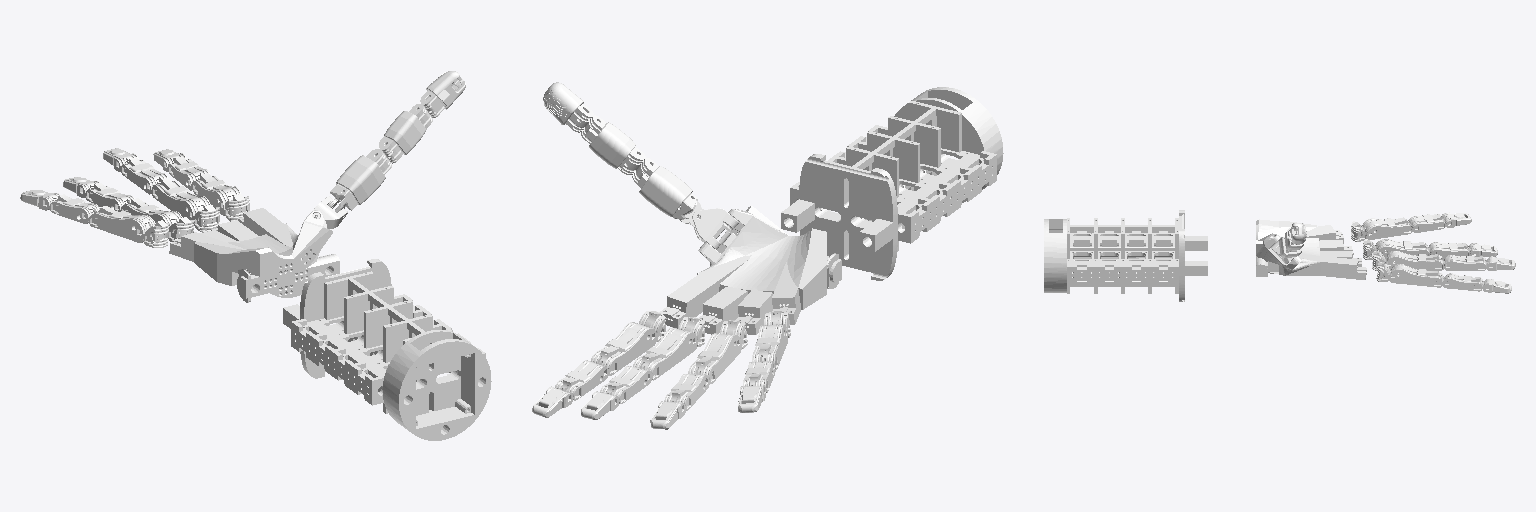
--- Facts derived from the render (not from the file) ---
The picture shows the robot from 3 angles, left to right: view 1: azimuth 30°, elevation 25°; view 2: azimuth 150°, elevation 25°; view 3: azimuth 270°, elevation 25°; orthographic projection.
Robot: converted_robot — 97 links, 96 joints (38 revolute, 58 fixed); root link hand_root; default pose: every joint at zero.
Visible links, largest first — view 1: palm, thumb_pp, thumb_mp, pinky_pp, middle_pp, thumb_dp, index_pp, middle_mp, pinky_mp, ring_mp, index_mp, ring_pp (+2 smaller); view 2: palm, thumb_pp, thumb_mp, index_pp, middle_pp, ring_pp, thumb_dp, index_mp, thumb_base, pinky_pp, middle_mp, ring_mp (+5 smaller); view 3: palm, index_pp, pinky_pp, middle_pp, ring_pp, middle_mp, index_mp, pinky_mp.
Boxes of the visible links, x1,y1,x2,y2 form: palm: [169, 208, 491, 440]; thumb_pp: [328, 149, 391, 212]; thumb_mp: [379, 104, 432, 163]; pinky_pp: [89, 206, 155, 242]; middle_pp: [151, 178, 210, 223]; thumb_dp: [420, 71, 465, 117]; index_pp: [192, 173, 240, 215]; middle_mp: [121, 157, 167, 194]; pinky_mp: [49, 194, 99, 223]; ring_mp: [85, 183, 134, 211]; index_mp: [168, 156, 209, 190]; ring_pp: [120, 198, 182, 225]; palm: [660, 87, 1003, 334]; thumb_pp: [632, 158, 703, 226]; thumb_mp: [581, 115, 645, 174]; index_pp: [591, 322, 656, 375]; middle_pp: [633, 327, 697, 380]; ring_pp: [688, 333, 741, 383]; thumb_dp: [543, 82, 593, 132]; index_mp: [555, 360, 608, 400]; thumb_base: [692, 208, 738, 249]; pinky_pp: [752, 324, 787, 369]; middle_mp: [600, 366, 651, 403]; ring_mp: [664, 374, 709, 410]; palm: [1044, 210, 1366, 301]; index_pp: [1389, 264, 1444, 287]; pinky_pp: [1362, 217, 1412, 239]; middle_pp: [1385, 251, 1444, 270]; ring_pp: [1375, 239, 1429, 257]; middle_mp: [1444, 255, 1487, 270]; index_mp: [1443, 273, 1483, 291]; pinky_mp: [1408, 214, 1445, 232].
Size in the robot's own frame: 0.2184 by 0.3995 by 0.1237 metres.
Meshes: 21 distinct files referenced, 21 mesh visuals loaded (21 binary STL).

robot.urdf — converted_robot:
<?xml version="1.0" ?>
<robot name="converted_robot">
   <link name="hand_root">
      <inertial>
         <origin xyz="0.0 0.0 0.0" rpy="1.5706999999995865 9.26535893632785e-05 3.1415926446647697"/>
         <mass value="0.0"/>
         <inertia ixx="0.0" iyy="0.0" izz="0.0" ixy="0" ixz="0" iyz="0"/>
      </inertial>
   </link>
   <link name="palm">
      <inertial>
         <origin xyz="2.5416504812887298e-05 -0.08276365349137842 0.001169448382074098" rpy="-2.0013871051005374 -1.5403497142979492 -2.710528263074548"/>
         <mass value="0.8544284533999974"/>
         <inertia ixx="0.003996687193896739" iyy="0.0038631080483888095" izz="0.0003381452076901226" ixy="0" ixz="0" iyz="0"/>
      </inertial>
      <visual name="palm_tower">
         <origin xyz="2.5416504812887298e-05 -0.08276365349137842 0.001169448382074098" rpy="-2.001387105100539 -1.5403497142979492 -2.710528263074546"/>
         <geometry>
            <mesh filename="package://viz/models/faive_hand_p4/urdf/converted_palm_tower.stl"/>
         </geometry>
         <material name="white"/>
      </visual>
   </link>
   <link name="root2palm_fixed_jointbody">
      <inertial>
         <origin xyz="0.0 0.0 0.0" rpy="0.0 0.0 0.0"/>
         <mass value="0.001"/>
         <inertia ixx="1e-09" iyy="1e-09" izz="1e-09" ixy="0" ixz="0" iyz="0"/>
      </inertial>
   </link>
   <joint type="fixed" name="root2palm_fixed">
      <parent link="hand_root"/>
      <child link="root2palm_fixed_jointbody"/>
      <origin xyz="0.0 0.0 0.0" rpy="0.0 0.0 0.0"/>
   </joint>
   <joint type="fixed" name="root2palm_fixed_offset">
      <parent link="root2palm_fixed_jointbody"/>
      <child link="palm"/>
      <origin xyz="-0.0 -0.0 -0.0" rpy="0.0 0.0 0.0"/>
   </joint>
   <link name="thumb_base">
      <inertial>
         <origin xyz="0.001970173414393421 -0.005848359469028798 -0.0036223825060920853" rpy="-0.5508534899362458 -1.2305068745270804 -1.7115532269963385"/>
         <mass value="0.004011533872474505"/>
         <inertia ixx="2.1074086505129743e-07" iyy="1.648050934848108e-07" izz="1.4801558992505004e-07" ixy="0" ixz="0" iyz="0"/>
      </inertial>
      <visual name="thumb_base">
         <origin xyz="0.001970173414393421 -0.005848359469028798 -0.0036223825060920853" rpy="-0.5508534899362456 -1.2305068745270804 -1.7115532269963383"/>
         <geometry>
            <mesh filename="package://viz/models/faive_hand_p4/urdf/converted_thumb_base.stl"/>
         </geometry>
         <material name="white"/>
      </visual>
   </link>
   <link name="root2thumb_base_jointbody">
      <inertial>
         <origin xyz="0.0 0.0 0.0" rpy="0.0 0.0 0.0"/>
         <mass value="0.001"/>
         <inertia ixx="1e-09" iyy="1e-09" izz="1e-09" ixy="0" ixz="0" iyz="0"/>
      </inertial>
   </link>
   <joint type="revolute" name="root2thumb_base">
      <parent link="palm"/>
      <child link="root2thumb_base_jointbody"/>
      <origin xyz="0.0302924 0.0270814 0.0184038" rpy="3.116968966268021 -0.7070761587517901 -1.998218924284706"/>
      <axis xyz="1.0 0.0 0.0"/>
      <limit lower="0.0" upper="2.27" effort="100" velocity="100"/>
   </joint>
   <joint type="fixed" name="root2thumb_base_offset">
      <parent link="root2thumb_base_jointbody"/>
      <child link="thumb_base"/>
      <origin xyz="-0.0 -0.0 -0.0" rpy="0.0 0.0 0.0"/>
   </joint>
   <link name="thumb_pp">
      <inertial>
         <origin xyz="0.003685797083943662 -0.009243840769062303 -0.019758529144502893" rpy="0.24159850312347242 -0.37675802997427077 -2.042850879998637"/>
         <mass value="0.013134496742520606"/>
         <inertia ixx="1.3422333588118766e-06" iyy="1.3414176561006083e-06" izz="4.220848677143001e-07" ixy="0" ixz="0" iyz="0"/>
      </inertial>
      <visual name="thumb_pp">
         <origin xyz="0.003685797083943662 -0.009243840769062303 -0.019758529144502893" rpy="0.24159850312347242 -0.376758029974271 -2.042850879998637"/>
         <geometry>
            <mesh filename="package://viz/models/faive_hand_p4/urdf/converted_thumb_pp.stl"/>
         </geometry>
         <material name="white"/>
      </visual>
   </link>
   <link name="thumb_base2pp_jointbody">
      <inertial>
         <origin xyz="0.0 0.0 0.0" rpy="0.0 0.0 0.0"/>
         <mass value="0.001"/>
         <inertia ixx="1e-09" iyy="1e-09" izz="1e-09" ixy="0" ixz="0" iyz="0"/>
      </inertial>
   </link>
   <joint type="revolute" name="thumb_base2pp">
      <parent link="thumb_base"/>
      <child link="thumb_base2pp_jointbody"/>
      <origin xyz="0.0 -0.010014 -0.011168" rpy="0.471787471114568 -0.7310080799806019 -1.5707964600490258"/>
      <axis xyz="1.0 -0.0 -0.0"/>
      <limit lower="-1.66" upper="1.05" effort="100" velocity="100"/>
   </joint>
   <joint type="fixed" name="thumb_base2pp_offset">
      <parent link="thumb_base2pp_jointbody"/>
      <child link="thumb_pp"/>
      <origin xyz="-0.0 -0.0 -0.0" rpy="0.0 0.0 0.0"/>
   </joint>
   <link name="thumb_mp_virt">
      <inertial>
         <origin xyz="0.009525 -0.041187 0.083647" rpy="-0.2229159847709277 -1.2682876286119866 0.3020329839181936"/>
         <mass value="0.001"/>
         <inertia ixx="4e-10" iyy="4e-10" izz="3e-10" ixy="0" ixz="0" iyz="0"/>
      </inertial>
   </link>
   <link name="thumb_pp2mp_virt_jointbody">
      <inertial>
         <origin xyz="0.0 0.0 0.0" rpy="0.0 0.0 0.0"/>
         <mass value="0.001"/>
         <inertia ixx="1e-09" iyy="1e-09" izz="1e-09" ixy="0" ixz="0" iyz="0"/>
      </inertial>
   </link>
   <joint type="revolute" name="thumb_pp2mp_virt">
      <parent link="thumb_pp"/>
      <child link="thumb_pp2mp_virt_jointbody"/>
      <origin xyz="0.006036 -0.014416 -0.034587" rpy="0.5386217287519482 0.3555979399949092 2.3263406330107355"/>
      <axis xyz="1.0 0.0 0.0"/>
      <limit lower="0.0" upper="0.96" effort="100" velocity="100"/>
   </joint>
   <joint type="fixed" name="thumb_pp2mp_virt_offset">
      <parent link="thumb_pp2mp_virt_jointbody"/>
      <child link="thumb_mp_virt"/>
      <origin xyz="-0.0 -0.0 -0.0" rpy="0.0 0.0 0.0"/>
   </joint>
   <link name="thumb_mp">
      <inertial>
         <origin xyz="5.4286458221817005e-05 -0.001509788527586431 -0.01238038691431663" rpy="0.0012037457432313436 0.24541958094551974 1.5927828887663114"/>
         <mass value="0.00888020173902963"/>
         <inertia ixx="6.734609177701431e-07" iyy="6.20129431691173e-07" izz="2.4105375135125176e-07" ixy="0" ixz="0" iyz="0"/>
      </inertial>
      <visual name="thumb_mp">
         <origin xyz="5.4286458221817005e-05 -0.001509788527586431 -0.01238038691431663" rpy="0.0012037457432314547 0.24541958094551974 1.5927828887663118"/>
         <geometry>
            <mesh filename="package://viz/models/faive_hand_p4/urdf/converted_thumb_mp.stl"/>
         </geometry>
         <material name="white"/>
      </visual>
   </link>
   <link name="thumb_pp2mp_jointbody">
      <inertial>
         <origin xyz="0.0 0.0 0.0" rpy="0.0 0.0 0.0"/>
         <mass value="0.001"/>
         <inertia ixx="1e-09" iyy="1e-09" izz="1e-09" ixy="0" ixz="0" iyz="0"/>
      </inertial>
   </link>
   <joint type="revolute" name="thumb_pp2mp">
      <parent link="thumb_mp_virt"/>
      <child link="thumb_pp2mp_jointbody"/>
      <origin xyz="3.8e-05 -0.002927 -0.011638" rpy="0.0 0.0 0.0"/>
      <axis xyz="1.0 0.0 0.0"/>
      <limit lower="0.0" upper="0.96" effort="100" velocity="100"/>
   </joint>
   <joint type="fixed" name="thumb_pp2mp_offset">
      <parent link="thumb_pp2mp_jointbody"/>
      <child link="thumb_mp"/>
      <origin xyz="-0.0 -0.0 -0.0" rpy="0.0 0.0 0.0"/>
   </joint>
   <link name="thumb_dp_virt">
      <inertial>
         <origin xyz="0.009403 -0.031797 0.120984" rpy="-0.2229159847709277 -1.2682876286119866 0.3020329839181936"/>
         <mass value="0.001"/>
         <inertia ixx="4e-10" iyy="4e-10" izz="3e-10" ixy="0" ixz="0" iyz="0"/>
      </inertial>
   </link>
   <link name="thumb_mp2dp_virt_jointbody">
      <inertial>
         <origin xyz="0.0 0.0 0.0" rpy="0.0 0.0 0.0"/>
         <mass value="0.001"/>
         <inertia ixx="1e-09" iyy="1e-09" izz="1e-09" ixy="0" ixz="0" iyz="0"/>
      </inertial>
   </link>
   <joint type="revolute" name="thumb_mp2dp_virt">
      <parent link="thumb_mp"/>
      <child link="thumb_mp2dp_virt_jointbody"/>
      <origin xyz="8.4e-05 -0.006463 -0.025699" rpy="0.0 0.0 0.0"/>
      <axis xyz="1.0 0.0 0.0"/>
      <limit lower="0.0" upper="0.68" effort="100" velocity="100"/>
   </joint>
   <joint type="fixed" name="thumb_mp2dp_virt_offset">
      <parent link="thumb_mp2dp_virt_jointbody"/>
      <child link="thumb_dp_virt"/>
      <origin xyz="-0.0 -0.0 -0.0" rpy="0.0 0.0 0.0"/>
   </joint>
   <link name="thumb_dp">
      <inertial>
         <origin xyz="5.3696526934673625e-05 -0.002439206018631304 -0.011120898732089823" rpy="0.0031587549087034317 0.21291132811997304 1.604797502184634"/>
         <mass value="0.006650607092807898"/>
         <inertia ixx="3.45280430015512e-07" iyy="3.083919799294367e-07" izz="1.5906696275514546e-07" ixy="0" ixz="0" iyz="0"/>
      </inertial>
      <visual name="thumb_dp">
         <origin xyz="5.3696526934673625e-05 -0.002439206018631304 -0.011120898732089823" rpy="0.0031587549087035427 0.21291132811997304 1.604797502184634"/>
         <geometry>
            <mesh filename="package://viz/models/faive_hand_p4/urdf/converted_thumb_dp.stl"/>
         </geometry>
         <material name="white"/>
      </visual>
   </link>
   <link name="thumb_mp2dp_jointbody">
      <inertial>
         <origin xyz="0.0 0.0 0.0" rpy="0.0 0.0 0.0"/>
         <mass value="0.001"/>
         <inertia ixx="1e-09" iyy="1e-09" izz="1e-09" ixy="0" ixz="0" iyz="0"/>
      </inertial>
   </link>
   <joint type="revolute" name="thumb_mp2dp">
      <parent link="thumb_dp_virt"/>
      <child link="thumb_mp2dp_jointbody"/>
      <origin xyz="2.7e-05 -0.002196 -0.008728" rpy="0.0 0.0 0.0"/>
      <axis xyz="1.0 0.0 0.0"/>
      <limit lower="0.0" upper="0.68" effort="100" velocity="100"/>
   </joint>
   <joint type="fixed" name="thumb_mp2dp_offset">
      <parent link="thumb_mp2dp_jointbody"/>
      <child link="thumb_dp"/>
      <origin xyz="-0.0 -0.0 -0.0" rpy="0.0 0.0 0.0"/>
   </joint>
   <link name="thumb_fingertip">
      <inertial>
         <origin xyz="0.000386 -0.000394 -0.012633" rpy="1.583092548356868 0.21851142430155246 -2.8889085939445414"/>
         <mass value="0.0"/>
         <inertia ixx="0.0" iyy="0.0" izz="0.0" ixy="0" ixz="0" iyz="0"/>
      </inertial>
   </link>
   <link name="thumb_dp2thumb_fingertip_fixed_jointbody">
      <inertial>
         <origin xyz="0.0 0.0 0.0" rpy="0.0 0.0 0.0"/>
         <mass value="0.001"/>
         <inertia ixx="1e-09" iyy="1e-09" izz="1e-09" ixy="0" ixz="0" iyz="0"/>
      </inertial>
   </link>
   <joint type="fixed" name="thumb_dp2thumb_fingertip_fixed">
      <parent link="thumb_dp"/>
      <child link="thumb_dp2thumb_fingertip_fixed_jointbody"/>
      <origin xyz="0.000386 -0.000394 -0.012633" rpy="1.583092548356868 0.21851142430155246 -2.8889085939445414"/>
   </joint>
   <joint type="fixed" name="thumb_dp2thumb_fingertip_fixed_offset">
      <parent link="thumb_dp2thumb_fingertip_fixed_jointbody"/>
      <child link="thumb_fingertip"/>
      <origin xyz="-0.0 -0.0 -0.0" rpy="0.0 0.0 0.0"/>
   </joint>
   <link name="index_um_virt">
      <inertial>
         <origin xyz="0.0 0.0 0.0" rpy="0.0 0.0 0.0"/>
         <mass value="0.001"/>
         <inertia ixx="4e-10" iyy="4e-10" izz="3e-10" ixy="0" ixz="0" iyz="0"/>
      </inertial>
   </link>
   <link name="index_abd_virt_jointbody">
      <inertial>
         <origin xyz="0.0 0.0 0.0" rpy="0.0 0.0 0.0"/>
         <mass value="0.001"/>
         <inertia ixx="1e-09" iyy="1e-09" izz="1e-09" ixy="0" ixz="0" iyz="0"/>
      </inertial>
   </link>
   <joint type="revolute" name="index_abd_virt">
      <parent link="palm"/>
      <child link="index_abd_virt_jointbody"/>
      <origin xyz="0.0241405 0.0941245 -0.002264" rpy="-2.4660871361653434 1.4872443604478853 -0.9843704687461553"/>
      <axis xyz="1.0 0.0 0.0"/>
      <limit lower="-0.264" upper="0.264" effort="100" velocity="100"/>
   </joint>
   <joint type="fixed" name="index_abd_virt_offset">
      <parent link="index_abd_virt_jointbody"/>
      <child link="index_um_virt"/>
      <origin xyz="-0.0 -0.0 -0.0" rpy="0.0 0.0 0.0"/>
   </joint>
   <link name="index_um">
      <inertial>
         <origin xyz="0.00031580983659068584 -0.0002288251367361105 -0.0036213650800712184" rpy="3.11344184080733 -1.2906456283037744 -3.1026201209529307"/>
         <mass value="0.0017045161564725117"/>
         <inertia ixx="4.089294685057779e-08" iyy="3.323975063683227e-08" izz="2.9482536155708794e-08" ixy="0" ixz="0" iyz="0"/>
      </inertial>
      <visual name="index_um">
         <origin xyz="0.00031580983659068584 -0.0002288251367361105 -0.0036213650800712184" rpy="3.1134418408073303 -1.2906456283037744 -3.1026201209529303"/>
         <geometry>
            <mesh filename="package://viz/models/faive_hand_p4/urdf/converted_index_um.stl"/>
         </geometry>
         <material name="white"/>
      </visual>
   </link>
   <link name="index_abd_jointbody">
      <inertial>
         <origin xyz="0.0 0.0 0.0" rpy="0.0 0.0 0.0"/>
         <mass value="0.001"/>
         <inertia ixx="1e-09" iyy="1e-09" izz="1e-09" ixy="0" ixz="0" iyz="0"/>
      </inertial>
   </link>
   <joint type="revolute" name="index_abd">
      <parent link="index_um_virt"/>
      <child link="index_abd_jointbody"/>
      <origin xyz="0.0 0.0 0.018" rpy="0.0 0.0 0.0"/>
      <axis xyz="1.0 0.0 0.0"/>
      <limit lower="-0.264" upper="0.264" effort="100" velocity="100"/>
   </joint>
   <joint type="fixed" name="index_abd_offset">
      <parent link="index_abd_jointbody"/>
      <child link="index_um"/>
      <origin xyz="-0.0 -0.0 -0.0" rpy="0.0 0.0 0.0"/>
   </joint>
   <link name="index_pp_virt">
      <inertial>
         <origin xyz="0.0 0.0 0.0" rpy="0.0 0.0 0.0"/>
         <mass value="0.001"/>
         <inertia ixx="4e-10" iyy="4e-10" izz="3e-10" ixy="0" ixz="0" iyz="0"/>
      </inertial>
   </link>
   <link name="root2index_pp_virt_jointbody">
      <inertial>
         <origin xyz="0.0 0.0 0.0" rpy="0.0 0.0 0.0"/>
         <mass value="0.001"/>
         <inertia ixx="1e-09" iyy="1e-09" izz="1e-09" ixy="0" ixz="0" iyz="0"/>
      </inertial>
   </link>
   <joint type="revolute" name="root2index_pp_virt">
      <parent link="index_um"/>
      <child link="root2index_pp_virt_jointbody"/>
      <origin xyz="0.00270000102 5.9952065978308155e-19 -0.00743303472" rpy="0.0 0.0 -1.5707963267948963"/>
      <axis xyz="1.0 0.0 0.0"/>
      <limit lower="-0.157" upper="0.829" effort="100" velocity="100"/>
   </joint>
   <joint type="fixed" name="root2index_pp_virt_offset">
      <parent link="root2index_pp_virt_jointbody"/>
      <child link="index_pp_virt"/>
      <origin xyz="-0.0 -0.00270000102 -0.0" rpy="0.0 0.0 0.0"/>
   </joint>
   <link name="index_pp">
      <inertial>
         <origin xyz="0.0001596722768568877 0.0010995555377848287 0.012881699665408173" rpy="-0.0005635952845526315 0.04346039496131349 1.5731856337079444"/>
         <mass value="0.006934011983539235"/>
         <inertia ixx="1.1618492936895645e-06" iyy="1.1338221765707372e-06" izz="1.5329642774536852e-07" ixy="0" ixz="0" iyz="0"/>
      </inertial>
      <visual name="index_pp">
         <origin xyz="0.0001596722768568877 0.0010995555377848287 0.012881699665408173" rpy="-0.0005635952845526315 0.04346039496131349 1.5731856337079444"/>
         <geometry>
            <mesh filename="package://viz/models/faive_hand_p4/urdf/converted_index_pp.stl"/>
         </geometry>
         <material name="white"/>
      </visual>
   </link>
   <link name="root2index_pp_jointbody">
      <inertial>
         <origin xyz="0.0 0.0 0.0" rpy="0.0 0.0 0.0"/>
         <mass value="0.001"/>
         <inertia ixx="1e-09" iyy="1e-09" izz="1e-09" ixy="0" ixz="0" iyz="0"/>
      </inertial>
   </link>
   <joint type="revolute" name="root2index_pp">
      <parent link="index_pp_virt"/>
      <child link="root2index_pp_jointbody"/>
      <origin xyz="0.0 0.00250000102 0.018" rpy="0.0 0.0 0.0"/>
      <axis xyz="1.0 0.0 0.0"/>
      <limit lower="-0.157" upper="0.829" effort="100" velocity="100"/>
   </joint>
   <joint type="fixed" name="root2index_pp_offset">
      <parent link="root2index_pp_jointbody"/>
      <child link="index_pp"/>
      <origin xyz="-0.0 -0.00250000102 -0.0" rpy="0.0 0.0 0.0"/>
   </joint>
   <link name="index_pp_sens">
      <inertial>
         <origin xyz="0.0 -0.004 0.018" rpy="0.0 0.0 0.0"/>
         <mass value="0.0"/>
         <inertia ixx="0.0" iyy="0.0" izz="0.0" ixy="0" ixz="0" iyz="0"/>
      </inertial>
   </link>
   <link name="index_pp2index_pp_sens_fixed_jointbody">
      <inertial>
         <origin xyz="0.0 0.0 0.0" rpy="0.0 0.0 0.0"/>
         <mass value="0.001"/>
         <inertia ixx="1e-09" iyy="1e-09" izz="1e-09" ixy="0" ixz="0" iyz="0"/>
      </inertial>
   </link>
   <joint type="fixed" name="index_pp2index_pp_sens_fixed">
      <parent link="index_pp"/>
      <child link="index_pp2index_pp_sens_fixed_jointbody"/>
      <origin xyz="0.0 -0.004 0.018" rpy="0.0 0.0 0.0"/>
   </joint>
   <joint type="fixed" name="index_pp2index_pp_sens_fixed_offset">
      <parent link="index_pp2index_pp_sens_fixed_jointbody"/>
      <child link="index_pp_sens"/>
      <origin xyz="-0.0 -0.0 -0.0" rpy="0.0 0.0 0.0"/>
   </joint>
   <link name="index_mp_virt">
      <inertial>
         <origin xyz="0.0 0.0 0.0" rpy="0.0 0.0 0.0"/>
         <mass value="0.001"/>
         <inertia ixx="4e-10" iyy="4e-10" izz="3e-10" ixy="0" ixz="0" iyz="0"/>
      </inertial>
   </link>
   <link name="index_pp2mp_virt_jointbody">
      <inertial>
         <origin xyz="0.0 0.0 0.0" rpy="0.0 0.0 0.0"/>
         <mass value="0.001"/>
         <inertia ixx="1e-09" iyy="1e-09" izz="1e-09" ixy="0" ixz="0" iyz="0"/>
      </inertial>
   </link>
   <joint type="revolute" name="index_pp2mp_virt">
      <parent link="index_pp"/>
      <child link="index_pp2mp_virt_jointbody"/>
      <origin xyz="0.0 0.00370000102 0.03101612481" rpy="0.0 0.0 0.0"/>
      <axis xyz="1.0 0.0 0.0"/>
      <limit lower="-0.131" upper="0.96" effort="100" velocity="100"/>
   </joint>
   <joint type="fixed" name="index_pp2mp_virt_offset">
      <parent link="index_pp2mp_virt_jointbody"/>
      <child link="index_mp_virt"/>
      <origin xyz="-0.0 -0.00370000102 -0.0" rpy="0.0 0.0 0.0"/>
   </joint>
   <link name="index_mp">
      <inertial>
         <origin xyz="0.00011615953600364534 0.002416765310794026 0.011095355077765302" rpy="0.005169069300036244 0.005498568931487036 1.5689027225439034"/>
         <mass value="0.003917438749524729"/>
         <inertia ixx="3.7106864302587183e-07" iyy="3.4007196897290696e-07" izz="7.116706670265419e-08" ixy="0" ixz="0" iyz="0"/>
      </inertial>
      <visual name="index_mp">
         <origin xyz="0.00011615953600364534 0.002416765310794026 0.011095355077765302" rpy="0.005169069300036355 0.005498568931486814 1.5689027225439032"/>
         <geometry>
            <mesh filename="package://viz/models/faive_hand_p4/urdf/converted_index_mp.stl"/>
         </geometry>
         <material name="white"/>
      </visual>
   </link>
   <link name="index_pp2mp_jointbody">
      <inertial>
         <origin xyz="0.0 0.0 0.0" rpy="0.0 0.0 0.0"/>
         <mass value="0.001"/>
         <inertia ixx="1e-09" iyy="1e-09" izz="1e-09" ixy="0" ixz="0" iyz="0"/>
      </inertial>
   </link>
   <joint type="revolute" name="index_pp2mp">
      <parent link="index_mp_virt"/>
      <child link="index_pp2mp_jointbody"/>
      <origin xyz="0.0 0.00350000102 0.012" rpy="0.0 0.0 0.0"/>
      <axis xyz="1.0 0.0 0.0"/>
      <limit lower="-0.131" upper="0.96" effort="100" velocity="100"/>
   </joint>
   <joint type="fixed" name="index_pp2mp_offset">
      <parent link="index_pp2mp_jointbody"/>
      <child link="index_mp"/>
      <origin xyz="-0.0 -0.00350000102 -0.0" rpy="0.0 0.0 0.0"/>
   </joint>
   <link name="index_dp_virt">
      <inertial>
         <origin xyz="0.0 0.0 0.0" rpy="0.0 0.0 0.0"/>
         <mass value="0.001"/>
         <inertia ixx="4e-10" iyy="4e-10" izz="3e-10" ixy="0" ixz="0" iyz="0"/>
      </inertial>
   </link>
   <link name="index_mp2dp_virt_jointbody">
      <inertial>
         <origin xyz="0.0 0.0 0.0" rpy="0.0 0.0 0.0"/>
         <mass value="0.001"/>
         <inertia ixx="1e-09" iyy="1e-09" izz="1e-09" ixy="0" ixz="0" iyz="0"/>
      </inertial>
   </link>
   <joint type="revolute" name="index_mp2dp_virt">
      <parent link="index_mp"/>
      <child link="index_mp2dp_virt_jointbody"/>
      <origin xyz="0.0 0.00370000102 0.0235" rpy="0.0 0.0 0.0"/>
      <axis xyz="1.0 0.0 0.0"/>
      <limit lower="-0.093" upper="0.682" effort="100" velocity="100"/>
   </joint>
   <joint type="fixed" name="index_mp2dp_virt_offset">
      <parent link="index_mp2dp_virt_jointbody"/>
      <child link="index_dp_virt"/>
      <origin xyz="-0.0 -0.00370000102 -0.0" rpy="0.0 0.0 0.0"/>
   </joint>
   <link name="index_dp">
      <inertial>
         <origin xyz="0.00011951811090690767 0.0031206785576221962 0.00757311622812222" rpy="-0.0018937803814825793 0.05085216186052621 1.5852087154460959"/>
         <mass value="0.002163927397260579"/>
         <inertia ixx="1.074593159658436e-07" iyy="9.2226972746983e-08" izz="2.9490220632316423e-08" ixy="0" ixz="0" iyz="0"/>
      </inertial>
      <visual name="index_dp">
         <origin xyz="0.00011951811090690767 0.0031206785576221962 0.00757311622812222" rpy="-0.0018937803814825793 0.05085216186052599 1.5852087154460959"/>
         <geometry>
            <mesh filename="package://viz/models/faive_hand_p4/urdf/converted_index_dp.stl"/>
         </geometry>
         <material name="white"/>
      </visual>
   </link>
   <link name="index_mp2dp_jointbody">
      <inertial>
         <origin xyz="0.0 0.0 0.0" rpy="0.0 0.0 0.0"/>
         <mass value="0.001"/>
         <inertia ixx="1e-09" iyy="1e-09" izz="1e-09" ixy="0" ixz="0" iyz="0"/>
      </inertial>
   </link>
   <joint type="revolute" name="index_mp2dp">
      <parent link="index_dp_virt"/>
      <child link="index_mp2dp_jointbody"/>
      <origin xyz="0.0 0.00350000102 0.009" rpy="0.0 0.0 0.0"/>
      <axis xyz="1.0 0.0 0.0"/>
      <limit lower="-0.093" upper="0.682" effort="100" velocity="100"/>
   </joint>
   <joint type="fixed" name="index_mp2dp_offset">
      <parent link="index_mp2dp_jointbody"/>
      <child link="index_dp"/>
      <origin xyz="-0.0 -0.00350000102 -0.0" rpy="0.0 0.0 0.0"/>
   </joint>
   <link name="index_fingertip">
      <inertial>
         <origin xyz="0.0 0.0 0.01" rpy="0.0 0.0 0.0"/>
         <mass value="0.0"/>
         <inertia ixx="0.0" iyy="0.0" izz="0.0" ixy="0" ixz="0" iyz="0"/>
      </inertial>
   </link>
   <link name="index_dp2index_fingertip_fixed_jointbody">
      <inertial>
         <origin xyz="0.0 0.0 0.0" rpy="0.0 0.0 0.0"/>
         <mass value="0.001"/>
         <inertia ixx="1e-09" iyy="1e-09" izz="1e-09" ixy="0" ixz="0" iyz="0"/>
      </inertial>
   </link>
   <joint type="fixed" name="index_dp2index_fingertip_fixed">
      <parent link="index_dp"/>
      <child link="index_dp2index_fingertip_fixed_jointbody"/>
      <origin xyz="0.0 0.0 0.01" rpy="0.0 0.0 0.0"/>
   </joint>
   <joint type="fixed" name="index_dp2index_fingertip_fixed_offset">
      <parent link="index_dp2index_fingertip_fixed_jointbody"/>
      <child link="index_fingertip"/>
      <origin xyz="-0.0 -0.0 -0.0" rpy="0.0 0.0 0.0"/>
   </joint>
   <link name="middle_um_virt">
      <inertial>
         <origin xyz="0.0 0.0 0.0" rpy="0.0 0.0 0.0"/>
         <mass value="0.001"/>
         <inertia ixx="4e-10" iyy="4e-10" izz="3e-10" ixy="0" ixz="0" iyz="0"/>
      </inertial>
   </link>
   <link name="middle_abd_virt_jointbody">
      <inertial>
         <origin xyz="0.0 0.0 0.0" rpy="0.0 0.0 0.0"/>
         <mass value="0.001"/>
         <inertia ixx="1e-09" iyy="1e-09" izz="1e-09" ixy="0" ixz="0" iyz="0"/>
      </inertial>
   </link>
   <joint type="revolute" name="middle_abd_virt">
      <parent link="palm"/>
      <child link="middle_abd_virt_jointbody"/>
      <origin xyz="0.00295 0.09 -0.003066" rpy="-1.5707963267948966 1.5707963267948966 0.0"/>
      <axis xyz="1.0 0.0 0.0"/>
      <limit lower="-0.264" upper="0.264" effort="100" velocity="100"/>
   </joint>
   <joint type="fixed" name="middle_abd_virt_offset">
      <parent link="middle_abd_virt_jointbody"/>
      <child link="middle_um_virt"/>
      <origin xyz="-0.0 -0.0 -0.0" rpy="0.0 0.0 0.0"/>
   </joint>
   <link name="middle_um">
      <inertial>
         <origin xyz="0.0003169177085226181 -4.3580464142454044e-05 -0.00358903262860973" rpy="3.1142767312188235 -1.290606635557864 -3.1011515813433226"/>
         <mass value="0.0017047365062490875"/>
         <inertia ixx="4.0897642285508256e-08" iyy="3.324524834153317e-08" izz="2.949862077721965e-08" ixy="0" ixz="0" iyz="0"/>
      </inertial>
      <visual name="middle_um">
         <origin xyz="0.0003169177085226181 -4.3580464142454044e-05 -0.00358903262860973" rpy="3.1142767312188235 -1.290606635557864 -3.1011515813433226"/>
         <geometry>
            <mesh filename="package://viz/models/faive_hand_p4/urdf/converted_middle_um.stl"/>
         </geometry>
         <material name="white"/>
      </visual>
   </link>
   <link name="middle_abd_jointbody">
      <inertial>
         <origin xyz="0.0 0.0 0.0" rpy="0.0 0.0 0.0"/>
         <mass value="0.001"/>
         <inertia ixx="1e-09" iyy="1e-09" izz="1e-09" ixy="0" ixz="0" iyz="0"/>
      </inertial>
   </link>
   <joint type="revolute" name="middle_abd">
      <parent link="middle_um_virt"/>
      <child link="middle_abd_jointbody"/>
      <origin xyz="0.0 0.0 0.018" rpy="0.0 0.0 0.0"/>
      <axis xyz="1.0 0.0 0.0"/>
      <limit lower="-0.264" upper="0.264" effort="100" velocity="100"/>
   </joint>
   <joint type="fixed" name="middle_abd_offset">
      <parent link="middle_abd_jointbody"/>
      <child link="middle_um"/>
      <origin xyz="-0.0 -0.0 -0.0" rpy="0.0 0.0 0.0"/>
   </joint>
   <link name="middle_pp_virt">
      <inertial>
         <origin xyz="0.0 0.0 0.0" rpy="0.0 0.0 0.0"/>
         <mass value="0.001"/>
         <inertia ixx="4e-10" iyy="4e-10" izz="3e-10" ixy="0" ixz="0" iyz="0"/>
      </inertial>
   </link>
   <link name="root2middle_pp_virt_jointbody">
      <inertial>
         <origin xyz="0.0 0.0 0.0" rpy="0.0 0.0 0.0"/>
         <mass value="0.001"/>
         <inertia ixx="1e-09" iyy="1e-09" izz="1e-09" ixy="0" ixz="0" iyz="0"/>
      </inertial>
   </link>
   <joint type="revolute" name="root2middle_pp_virt">
      <parent link="middle_um"/>
      <child link="root2middle_pp_virt_jointbody"/>
      <origin xyz="0.002700001023199999 5.99520660493624e-19 -0.00743303472" rpy="0.0 0.0 -1.5707963267948963"/>
      <axis xyz="1.0 0.0 0.0"/>
      <limit lower="-0.157" upper="0.829" effort="100" velocity="100"/>
   </joint>
   <joint type="fixed" name="root2middle_pp_virt_offset">
      <parent link="root2middle_pp_virt_jointbody"/>
      <child link="middle_pp_virt"/>
      <origin xyz="-0.0 -0.002700001023199999 -0.0" rpy="0.0 0.0 0.0"/>
   </joint>
   <link name="middle_pp">
      <inertial>
         <origin xyz="-2.677702921494878e-05 0.0012083795875931697 0.014736324701324955" rpy="-0.0005735044307867421 0.04126377529945047 1.5748585531708672"/>
         <mass value="0.007431440532107334"/>
         <inertia ixx="1.4952082058349715e-06" iyy="1.4626277184822152e-06" izz="1.611455658132459e-07" ixy="0" ixz="0" iyz="0"/>
      </inertial>
      <visual name="middle_pp">
         <origin xyz="-2.677702921494878e-05 0.0012083795875931697 0.014736324701324955" rpy="-0.0005735044307867421 0.041263775299450245 1.5748585531708672"/>
         <geometry>
            <mesh filename="package://viz/models/faive_hand_p4/urdf/converted_middle_pp.stl"/>
         </geometry>
         <material name="white"/>
      </visual>
   </link>
   <link name="root2middle_pp_jointbody">
      <inertial>
         <origin xyz="0.0 0.0 0.0" rpy="0.0 0.0 0.0"/>
         <mass value="0.001"/>
         <inertia ixx="1e-09" iyy="1e-09" izz="1e-09" ixy="0" ixz="0" iyz="0"/>
      </inertial>
   </link>
   <joint type="revolute" name="root2middle_pp">
      <parent link="middle_pp_virt"/>
      <child link="root2middle_pp_jointbody"/>
      <origin xyz="0.0 0.002500001023199999 0.018" rpy="0.0 0.0 0.0"/>
      <axis xyz="1.0 0.0 0.0"/>
      <limit lower="-0.157" upper="0.829" effort="100" velocity="100"/>
   </joint>
   <joint type="fixed" name="root2middle_pp_offset">
      <parent link="root2middle_pp_jointbody"/>
      <child link="middle_pp"/>
      <origin xyz="-0.0 -0.002500001023199999 -0.0" rpy="0.0 0.0 0.0"/>
   </joint>
   <link name="middle_pp_sens">
      <inertial>
         <origin xyz="0.0 -0.004 0.022" rpy="0.0 0.0 0.0"/>
         <mass value="0.0"/>
         <inertia ixx="0.0" iyy="0.0" izz="0.0" ixy="0" ixz="0" iyz="0"/>
      </inertial>
   </link>
   <link name="middle_pp2middle_pp_sens_fixed_jointbody">
      <inertial>
         <origin xyz="0.0 0.0 0.0" rpy="0.0 0.0 0.0"/>
         <mass value="0.001"/>
         <inertia ixx="1e-09" iyy="1e-09" izz="1e-09" ixy="0" ixz="0" iyz="0"/>
      </inertial>
   </link>
   <joint type="fixed" name="middle_pp2middle_pp_sens_fixed">
      <parent link="middle_pp"/>
      <child link="middle_pp2middle_pp_sens_fixed_jointbody"/>
      <origin xyz="0.0 -0.004 0.022" rpy="0.0 0.0 0.0"/>
   </joint>
   <joint type="fixed" name="middle_pp2middle_pp_sens_fixed_offset">
      <parent link="middle_pp2middle_pp_sens_fixed_jointbody"/>
      <child link="middle_pp_sens"/>
      <origin xyz="-0.0 -0.0 -0.0" rpy="0.0 0.0 0.0"/>
   </joint>
   <link name="middle_mp_virt">
      <inertial>
         <origin xyz="0.0 0.0 0.0" rpy="0.0 0.0 0.0"/>
         <mass value="0.001"/>
         <inertia ixx="4e-10" iyy="4e-10" izz="3e-10" ixy="0" ixz="0" iyz="0"/>
      </inertial>
   </link>
   <link name="middle_pp2mp_virt_jointbody">
      <inertial>
         <origin xyz="0.0 0.0 0.0" rpy="0.0 0.0 0.0"/>
         <mass value="0.001"/>
         <inertia ixx="1e-09" iyy="1e-09" izz="1e-09" ixy="0" ixz="0" iyz="0"/>
      </inertial>
   </link>
   <joint type="revolute" name="middle_pp2mp_virt">
      <parent link="middle_pp"/>
      <child link="middle_pp2mp_virt_jointbody"/>
      <origin xyz="0.0 0.0037000000000999996 0.03501428277" rpy="0.0 0.0 0.0"/>
      <axis xyz="1.0 0.0 0.0"/>
      <limit lower="-0.131" upper="0.96" effort="100" velocity="100"/>
   </joint>
   <joint type="fixed" name="middle_pp2mp_virt_offset">
      <parent link="middle_pp2mp_virt_jointbody"/>
      <child link="middle_mp_virt"/>
      <origin xyz="-0.0 -0.0037000000000999996 -0.0" rpy="0.0 0.0 0.0"/>
   </joint>
   <link name="middle_mp">
      <inertial>
         <origin xyz="-7.289560681130453e-05 0.002462634567765748 0.012171393620294756" rpy="0.004902959245888794 0.004923370581294995 1.5694778048729559"/>
         <mass value="0.004122015435614137"/>
         <inertia ixx="4.381415087418521e-07" iyy="4.0505258266556385e-07" izz="7.452990009535827e-08" ixy="0" ixz="0" iyz="0"/>
      </inertial>
      <visual name="middle_mp">
         <origin xyz="-7.289560681130453e-05 0.002462634567765748 0.012171393620294756" rpy="0.004902959245888794 0.004923370581294995 1.5694778048729559"/>
         <geometry>
            <mesh filename="package://viz/models/faive_hand_p4/urdf/converted_middle_mp.stl"/>
         </geometry>
         <material name="white"/>
      </visual>
   </link>
   <link name="middle_pp2mp_jointbody">
      <inertial>
         <origin xyz="0.0 0.0 0.0" rpy="0.0 0.0 0.0"/>
         <mass value="0.001"/>
         <inertia ixx="1e-09" iyy="1e-09" izz="1e-09" ixy="0" ixz="0" iyz="0"/>
      </inertial>
   </link>
   <joint type="revolute" name="middle_pp2mp">
      <parent link="middle_mp_virt"/>
      <child link="middle_pp2mp_jointbody"/>
      <origin xyz="0.0 0.0035000000000999995 0.012" rpy="0.0 0.0 0.0"/>
      <axis xyz="1.0 0.0 0.0"/>
      <limit lower="-0.131" upper="0.96" effort="100" velocity="100"/>
   </joint>
   <joint type="fixed" name="middle_pp2mp_offset">
      <parent link="middle_pp2mp_jointbody"/>
      <child link="middle_mp"/>
      <origin xyz="-0.0 -0.0035000000000999995 -0.0" rpy="0.0 0.0 0.0"/>
   </joint>
   <link name="middle_dp_virt">
      <inertial>
         <origin xyz="0.0 0.0 0.0" rpy="0.0 0.0 0.0"/>
         <mass value="0.001"/>
         <inertia ixx="4e-10" iyy="4e-10" izz="3e-10" ixy="0" ixz="0" iyz="0"/>
      </inertial>
   </link>
   <link name="middle_mp2dp_virt_jointbody">
      <inertial>
         <origin xyz="0.0 0.0 0.0" rpy="0.0 0.0 0.0"/>
         <mass value="0.001"/>
         <inertia ixx="1e-09" iyy="1e-09" izz="1e-09" ixy="0" ixz="0" iyz="0"/>
      </inertial>
   </link>
   <joint type="revolute" name="middle_mp2dp_virt">
      <parent link="middle_mp"/>
      <child link="middle_mp2dp_virt_jointbody"/>
      <origin xyz="0.0 0.0037000000000999996 0.0255" rpy="0.0 0.0 0.0"/>
      <axis xyz="1.0 0.0 0.0"/>
      <limit lower="-0.093" upper="0.682" effort="100" velocity="100"/>
   </joint>
   <joint type="fixed" name="middle_mp2dp_virt_offset">
      <parent link="middle_mp2dp_virt_jointbody"/>
      <child link="middle_dp_virt"/>
      <origin xyz="-0.0 -0.0037000000000999996 -0.0" rpy="0.0 0.0 0.0"/>
   </joint>
   <link name="middle_dp">
      <inertial>
         <origin xyz="3.0280177180663714e-05 0.0031179204392796553 0.007681426284508561" rpy="0.008237866654386639 0.05067331063161795 1.5580538166000264"/>
         <mass value="0.002165187096269976"/>
         <inertia ixx="1.0756444686707563e-07" iyy="9.227105694252845e-08" izz="2.9564221198616795e-08" ixy="0" ixz="0" iyz="0"/>
      </inertial>
      <visual name="middle_dp">
         <origin xyz="3.0280177180663714e-05 0.0031179204392796553 0.007681426284508561" rpy="0.008237866654386639 0.05067331063161795 1.5580538166000264"/>
         <geometry>
            <mesh filename="package://viz/models/faive_hand_p4/urdf/converted_middle_dp.stl"/>
         </geometry>
         <material name="white"/>
      </visual>
   </link>
   <link name="middle_mp2dp_jointbody">
      <inertial>
         <origin xyz="0.0 0.0 0.0" rpy="0.0 0.0 0.0"/>
         <mass value="0.001"/>
         <inertia ixx="1e-09" iyy="1e-09" izz="1e-09" ixy="0" ixz="0" iyz="0"/>
      </inertial>
   </link>
   <joint type="revolute" name="middle_mp2dp">
      <parent link="middle_dp_virt"/>
      <child link="middle_mp2dp_jointbody"/>
      <origin xyz="0.0 0.0035000000000999995 0.009" rpy="0.0 0.0 0.0"/>
      <axis xyz="1.0 0.0 0.0"/>
      <limit lower="-0.093" upper="0.682" effort="100" velocity="100"/>
   </joint>
   <joint type="fixed" name="middle_mp2dp_offset">
      <parent link="middle_mp2dp_jointbody"/>
      <child link="middle_dp"/>
      <origin xyz="-0.0 -0.0035000000000999995 -0.0" rpy="0.0 0.0 0.0"/>
   </joint>
   <link name="middle_fingertip">
      <inertial>
         <origin xyz="0.0 0.0 0.01" rpy="0.0 0.0 0.0"/>
         <mass value="0.0"/>
         <inertia ixx="0.0" iyy="0.0" izz="0.0" ixy="0" ixz="0" iyz="0"/>
      </inertial>
   </link>
   <link name="middle_dp2middle_fingertip_fixed_jointbody">
      <inertial>
         <origin xyz="0.0 0.0 0.0" rpy="0.0 0.0 0.0"/>
         <mass value="0.001"/>
         <inertia ixx="1e-09" iyy="1e-09" izz="1e-09" ixy="0" ixz="0" iyz="0"/>
      </inertial>
   </link>
   <joint type="fixed" name="middle_dp2middle_fingertip_fixed">
      <parent link="middle_dp"/>
      <child link="middle_dp2middle_fingertip_fixed_jointbody"/>
      <origin xyz="0.0 0.0 0.01" rpy="0.0 0.0 0.0"/>
   </joint>
   <joint type="fixed" name="middle_dp2middle_fingertip_fixed_offset">
      <parent link="middle_dp2middle_fingertip_fixed_jointbody"/>
      <child link="middle_fingertip"/>
      <origin xyz="-0.0 -0.0 -0.0" rpy="0.0 0.0 0.0"/>
   </joint>
   <link name="ring_um_virt">
      <inertial>
         <origin xyz="0.0 0.0 0.0" rpy="0.0 0.0 0.0"/>
         <mass value="0.001"/>
         <inertia ixx="4e-10" iyy="4e-10" izz="3e-10" ixy="0" ixz="0" iyz="0"/>
      </inertial>
   </link>
   <link name="ring_abd_virt_jointbody">
      <inertial>
         <origin xyz="0.0 0.0 0.0" rpy="0.0 0.0 0.0"/>
         <mass value="0.001"/>
         <inertia ixx="1e-09" iyy="1e-09" izz="1e-09" ixy="0" ixz="0" iyz="0"/>
      </inertial>
   </link>
   <joint type="revolute" name="ring_abd_virt">
      <parent link="palm"/>
      <child link="ring_abd_virt_jointbody"/>
      <origin xyz="-0.017217999999999997 0.08220650000000002 -0.002338" rpy="1.9348425242531078 1.4600381359930803 -2.6515701414690604"/>
      <axis xyz="1.0 0.0 0.0"/>
      <limit lower="-0.264" upper="0.264" effort="100" velocity="100"/>
   </joint>
   <joint type="fixed" name="ring_abd_virt_offset">
      <parent link="ring_abd_virt_jointbody"/>
      <child link="ring_um_virt"/>
      <origin xyz="-0.0 -0.0 -0.0" rpy="0.0 0.0 0.0"/>
   </joint>
   <link name="ring_um">
      <inertial>
         <origin xyz="0.0003152631565906845 -4.4835076736117474e-05 -0.0035895413100712134" rpy="3.1134418408073303 -1.2906456283037746 -3.102620120952931"/>
         <mass value="0.0017045161564725117"/>
         <inertia ixx="4.089294685057779e-08" iyy="3.323975063683227e-08" izz="2.9482536155708794e-08" ixy="0" ixz="0" iyz="0"/>
      </inertial>
      <visual name="ring_um">
         <origin xyz="0.0003152631565906845 -4.4835076736117474e-05 -0.0035895413100712134" rpy="3.1134418408073303 -1.2906456283037746 -3.102620120952931"/>
         <geometry>
            <mesh filename="package://viz/models/faive_hand_p4/urdf/converted_ring_um.stl"/>
         </geometry>
         <material name="white"/>
      </visual>
   </link>
   <link name="ring_abd_jointbody">
      <inertial>
         <origin xyz="0.0 0.0 0.0" rpy="0.0 0.0 0.0"/>
         <mass value="0.001"/>
         <inertia ixx="1e-09" iyy="1e-09" izz="1e-09" ixy="0" ixz="0" iyz="0"/>
      </inertial>
   </link>
   <joint type="revolute" name="ring_abd">
      <parent link="ring_um_virt"/>
      <child link="ring_abd_jointbody"/>
      <origin xyz="0.0 0.0 0.018" rpy="0.0 0.0 0.0"/>
      <axis xyz="1.0 0.0 0.0"/>
      <limit lower="-0.264" upper="0.264" effort="100" velocity="100"/>
   </joint>
   <joint type="fixed" name="ring_abd_offset">
      <parent link="ring_abd_jointbody"/>
      <child link="ring_um"/>
      <origin xyz="-0.0 -0.0 -0.0" rpy="0.0 0.0 0.0"/>
   </joint>
   <link name="ring_pp_virt">
      <inertial>
         <origin xyz="0.0 0.0 0.0" rpy="0.0 0.0 0.0"/>
         <mass value="0.001"/>
         <inertia ixx="4e-10" iyy="4e-10" izz="3e-10" ixy="0" ixz="0" iyz="0"/>
      </inertial>
   </link>
   <link name="root2ring_pp_virt_jointbody">
      <inertial>
         <origin xyz="0.0 0.0 0.0" rpy="0.0 0.0 0.0"/>
         <mass value="0.001"/>
         <inertia ixx="1e-09" iyy="1e-09" izz="1e-09" ixy="0" ixz="0" iyz="0"/>
      </inertial>
   </link>
   <joint type="revolute" name="root2ring_pp_virt">
      <parent link="ring_um"/>
      <child link="root2ring_pp_virt_jointbody"/>
      <origin xyz="0.002700001023199999 5.99520660493624e-19 -0.00743303472" rpy="0.0 0.0 -1.5707963267948963"/>
      <axis xyz="1.0 0.0 0.0"/>
      <limit lower="-0.157" upper="0.829" effort="100" velocity="100"/>
   </joint>
   <joint type="fixed" name="root2ring_pp_virt_offset">
      <parent link="root2ring_pp_virt_jointbody"/>
      <child link="ring_pp_virt"/>
      <origin xyz="-0.0 -0.002700001023199999 -0.0" rpy="0.0 0.0 0.0"/>
   </joint>
   <link name="ring_pp">
      <inertial>
         <origin xyz="-2.4317783143112254e-05 0.0010990088577848287 0.012970488715408172" rpy="-0.0005635952845526315 0.04346039496131349 1.5731856337079444"/>
         <mass value="0.006934011983539235"/>
         <inertia ixx="1.1618492936895645e-06" iyy="1.1338221765707372e-06" izz="1.5329642774536852e-07" ixy="0" ixz="0" iyz="0"/>
      </inertial>
      <visual name="ring_pp">
         <origin xyz="-2.4317783143112254e-05 0.0010990088577848287 0.012970488715408172" rpy="-0.0005635952845526315 0.04346039496131349 1.5731856337079444"/>
         <geometry>
            <mesh filename="package://viz/models/faive_hand_p4/urdf/converted_ring_pp.stl"/>
         </geometry>
         <material name="white"/>
      </visual>
   </link>
   <link name="root2ring_pp_jointbody">
      <inertial>
         <origin xyz="0.0 0.0 0.0" rpy="0.0 0.0 0.0"/>
         <mass value="0.001"/>
         <inertia ixx="1e-09" iyy="1e-09" izz="1e-09" ixy="0" ixz="0" iyz="0"/>
      </inertial>
   </link>
   <joint type="revolute" name="root2ring_pp">
      <parent link="ring_pp_virt"/>
      <child link="root2ring_pp_jointbody"/>
      <origin xyz="0.0 0.002500001023199999 0.018" rpy="0.0 0.0 0.0"/>
      <axis xyz="1.0 0.0 0.0"/>
      <limit lower="-0.157" upper="0.829" effort="100" velocity="100"/>
   </joint>
   <joint type="fixed" name="root2ring_pp_offset">
      <parent link="root2ring_pp_jointbody"/>
      <child link="ring_pp"/>
      <origin xyz="-0.0 -0.002500001023199999 -0.0" rpy="0.0 0.0 0.0"/>
   </joint>
   <link name="ring_pp_sens">
      <inertial>
         <origin xyz="0.0 -0.004 0.018" rpy="0.0 0.0 0.0"/>
         <mass value="0.0"/>
         <inertia ixx="0.0" iyy="0.0" izz="0.0" ixy="0" ixz="0" iyz="0"/>
      </inertial>
   </link>
   <link name="ring_pp2ring_pp_sens_fixed_jointbody">
      <inertial>
         <origin xyz="0.0 0.0 0.0" rpy="0.0 0.0 0.0"/>
         <mass value="0.001"/>
         <inertia ixx="1e-09" iyy="1e-09" izz="1e-09" ixy="0" ixz="0" iyz="0"/>
      </inertial>
   </link>
   <joint type="fixed" name="ring_pp2ring_pp_sens_fixed">
      <parent link="ring_pp"/>
      <child link="ring_pp2ring_pp_sens_fixed_jointbody"/>
      <origin xyz="0.0 -0.004 0.018" rpy="0.0 0.0 0.0"/>
   </joint>
   <joint type="fixed" name="ring_pp2ring_pp_sens_fixed_offset">
      <parent link="ring_pp2ring_pp_sens_fixed_jointbody"/>
      <child link="ring_pp_sens"/>
      <origin xyz="-0.0 -0.0 -0.0" rpy="0.0 0.0 0.0"/>
   </joint>
   <link name="ring_mp_virt">
      <inertial>
         <origin xyz="0.0 0.0 0.0" rpy="0.0 0.0 0.0"/>
         <mass value="0.001"/>
         <inertia ixx="4e-10" iyy="4e-10" izz="3e-10" ixy="0" ixz="0" iyz="0"/>
      </inertial>
   </link>
   <link name="ring_pp2mp_virt_jointbody">
      <inertial>
         <origin xyz="0.0 0.0 0.0" rpy="0.0 0.0 0.0"/>
         <mass value="0.001"/>
         <inertia ixx="1e-09" iyy="1e-09" izz="1e-09" ixy="0" ixz="0" iyz="0"/>
      </inertial>
   </link>
   <joint type="revolute" name="ring_pp2mp_virt">
      <parent link="ring_pp"/>
      <child link="ring_pp2mp_virt_jointbody"/>
      <origin xyz="0.0 0.0037000000000999996 0.03101612481" rpy="0.0 0.0 0.0"/>
      <axis xyz="1.0 0.0 0.0"/>
      <limit lower="-0.131" upper="0.96" effort="100" velocity="100"/>
   </joint>
   <joint type="fixed" name="ring_pp2mp_virt_offset">
      <parent link="ring_pp2mp_virt_jointbody"/>
      <child link="ring_mp_virt"/>
      <origin xyz="-0.0 -0.0037000000000999996 -0.0" rpy="0.0 0.0 0.0"/>
   </joint>
   <link name="ring_mp">
      <inertial>
         <origin xyz="-6.783052399635461e-05 0.002416218630794026 0.0111841441377653" rpy="0.005169069300036244 0.005498568931487036 1.5689027225439034"/>
         <mass value="0.003917438749524729"/>
         <inertia ixx="3.7106864302587183e-07" iyy="3.4007196897290696e-07" izz="7.116706670265419e-08" ixy="0" ixz="0" iyz="0"/>
      </inertial>
      <visual name="ring_mp">
         <origin xyz="-6.783052399635461e-05 0.002416218630794026 0.0111841441377653" rpy="0.005169069300036355 0.005498568931486814 1.5689027225439032"/>
         <geometry>
            <mesh filename="package://viz/models/faive_hand_p4/urdf/converted_ring_mp.stl"/>
         </geometry>
         <material name="white"/>
      </visual>
   </link>
   <link name="ring_pp2mp_jointbody">
      <inertial>
         <origin xyz="0.0 0.0 0.0" rpy="0.0 0.0 0.0"/>
         <mass value="0.001"/>
         <inertia ixx="1e-09" iyy="1e-09" izz="1e-09" ixy="0" ixz="0" iyz="0"/>
      </inertial>
   </link>
   <joint type="revolute" name="ring_pp2mp">
      <parent link="ring_mp_virt"/>
      <child link="ring_pp2mp_jointbody"/>
      <origin xyz="0.0 0.0035000000000999995 0.012" rpy="0.0 0.0 0.0"/>
      <axis xyz="1.0 0.0 0.0"/>
      <limit lower="-0.131" upper="0.96" effort="100" velocity="100"/>
   </joint>
   <joint type="fixed" name="ring_pp2mp_offset">
      <parent link="ring_pp2mp_jointbody"/>
      <child link="ring_mp"/>
      <origin xyz="-0.0 -0.0035000000000999995 -0.0" rpy="0.0 0.0 0.0"/>
   </joint>
   <link name="ring_dp_virt">
      <inertial>
         <origin xyz="0.0 0.0 0.0" rpy="0.0 0.0 0.0"/>
         <mass value="0.001"/>
         <inertia ixx="4e-10" iyy="4e-10" izz="3e-10" ixy="0" ixz="0" iyz="0"/>
      </inertial>
   </link>
   <link name="ring_mp2dp_virt_jointbody">
      <inertial>
         <origin xyz="0.0 0.0 0.0" rpy="0.0 0.0 0.0"/>
         <mass value="0.001"/>
         <inertia ixx="1e-09" iyy="1e-09" izz="1e-09" ixy="0" ixz="0" iyz="0"/>
      </inertial>
   </link>
   <joint type="revolute" name="ring_mp2dp_virt">
      <parent link="ring_mp"/>
      <child link="ring_mp2dp_virt_jointbody"/>
      <origin xyz="0.0 0.0037000000000999996 0.0235" rpy="0.0 0.0 0.0"/>
      <axis xyz="1.0 0.0 0.0"/>
      <limit lower="-0.093" upper="0.682" effort="100" velocity="100"/>
   </joint>
   <joint type="fixed" name="ring_mp2dp_virt_offset">
      <parent link="ring_mp2dp_virt_jointbody"/>
      <child link="ring_dp_virt"/>
      <origin xyz="-0.0 -0.0037000000000999996 -0.0" rpy="0.0 0.0 0.0"/>
   </joint>
   <link name="ring_dp">
      <inertial>
         <origin xyz="-6.447194909309228e-05 0.003120131877622196 0.007661905288122231" rpy="-0.0018937803814825793 0.05085216186052621 1.5852087154460959"/>
         <mass value="0.002163927397260579"/>
         <inertia ixx="1.074593159658436e-07" iyy="9.2226972746983e-08" izz="2.9490220632316423e-08" ixy="0" ixz="0" iyz="0"/>
      </inertial>
      <visual name="ring_dp">
         <origin xyz="-6.447194909309228e-05 0.003120131877622196 0.007661905288122231" rpy="-0.0018937803814825793 0.05085216186052599 1.5852087154460959"/>
         <geometry>
            <mesh filename="package://viz/models/faive_hand_p4/urdf/converted_ring_dp.stl"/>
         </geometry>
         <material name="white"/>
      </visual>
   </link>
   <link name="ring_mp2dp_jointbody">
      <inertial>
         <origin xyz="0.0 0.0 0.0" rpy="0.0 0.0 0.0"/>
         <mass value="0.001"/>
         <inertia ixx="1e-09" iyy="1e-09" izz="1e-09" ixy="0" ixz="0" iyz="0"/>
      </inertial>
   </link>
   <joint type="revolute" name="ring_mp2dp">
      <parent link="ring_dp_virt"/>
      <child link="ring_mp2dp_jointbody"/>
      <origin xyz="0.0 0.0035000000000999995 0.009" rpy="0.0 0.0 0.0"/>
      <axis xyz="1.0 0.0 0.0"/>
      <limit lower="-0.093" upper="0.682" effort="100" velocity="100"/>
   </joint>
   <joint type="fixed" name="ring_mp2dp_offset">
      <parent link="ring_mp2dp_jointbody"/>
      <child link="ring_dp"/>
      <origin xyz="-0.0 -0.0035000000000999995 -0.0" rpy="0.0 0.0 0.0"/>
   </joint>
   <link name="ring_fingertip">
      <inertial>
         <origin xyz="0.0 0.0 0.01" rpy="0.0 0.0 0.0"/>
         <mass value="0.0"/>
         <inertia ixx="0.0" iyy="0.0" izz="0.0" ixy="0" ixz="0" iyz="0"/>
      </inertial>
   </link>
   <link name="ring_dp2ring_fingertip_fixed_jointbody">
      <inertial>
         <origin xyz="0.0 0.0 0.0" rpy="0.0 0.0 0.0"/>
         <mass value="0.001"/>
         <inertia ixx="1e-09" iyy="1e-09" izz="1e-09" ixy="0" ixz="0" iyz="0"/>
      </inertial>
   </link>
   <joint type="fixed" name="ring_dp2ring_fingertip_fixed">
      <parent link="ring_dp"/>
      <child link="ring_dp2ring_fingertip_fixed_jointbody"/>
      <origin xyz="0.0 0.0 0.01" rpy="0.0 0.0 0.0"/>
   </joint>
   <joint type="fixed" name="ring_dp2ring_fingertip_fixed_offset">
      <parent link="ring_dp2ring_fingertip_fixed_jointbody"/>
      <child link="ring_fingertip"/>
      <origin xyz="-0.0 -0.0 -0.0" rpy="0.0 0.0 0.0"/>
   </joint>
   <link name="pinky_um_virt">
      <inertial>
         <origin xyz="0.0 0.0 0.0" rpy="0.0 0.0 0.0"/>
         <mass value="0.001"/>
         <inertia ixx="4e-10" iyy="4e-10" izz="3e-10" ixy="0" ixz="0" iyz="0"/>
      </inertial>
   </link>
   <link name="pinky_abd_virt_jointbody">
      <inertial>
         <origin xyz="0.0 0.0 0.0" rpy="0.0 0.0 0.0"/>
         <mass value="0.001"/>
         <inertia ixx="1e-09" iyy="1e-09" izz="1e-09" ixy="0" ixz="0" iyz="0"/>
      </inertial>
   </link>
   <joint type="revolute" name="pinky_abd_virt">
      <parent link="palm"/>
      <child link="pinky_abd_virt_jointbody"/>
      <origin xyz="-0.036139500000000005 0.073232 0.004020000000000001" rpy="1.603352442101327 1.4396301902286717 -2.756575401461154"/>
      <axis xyz="1.0 0.0 0.0"/>
      <limit lower="-0.264" upper="0.264" effort="100" velocity="100"/>
   </joint>
   <joint type="fixed" name="pinky_abd_virt_offset">
      <parent link="pinky_abd_virt_jointbody"/>
      <child link="pinky_um_virt"/>
      <origin xyz="-0.0 -0.0 -0.0" rpy="0.0 0.0 0.0"/>
   </joint>
   <link name="pinky_um">
      <inertial>
         <origin xyz="0.0003137018308382924 -4.3327904489999514e-05 -0.0035887350773001533" rpy="3.1134956670973164 -1.2922565789121525 -3.0994832567569457"/>
         <mass value="0.001706479287008203"/>
         <inertia ixx="4.090623485686434e-08" iyy="3.326893498515239e-08" izz="2.9518955437121844e-08" ixy="0" ixz="0" iyz="0"/>
      </inertial>
      <visual name="pinky_um">
         <origin xyz="0.0003137018308382924 -4.3327904489999514e-05 -0.0035887350773001533" rpy="3.113495667097317 -1.2922565789121525 -3.0994832567569452"/>
         <geometry>
            <mesh filename="package://viz/models/faive_hand_p4/urdf/converted_pinky_um.stl"/>
         </geometry>
         <material name="white"/>
      </visual>
   </link>
   <link name="pinky_abd_jointbody">
      <inertial>
         <origin xyz="0.0 0.0 0.0" rpy="0.0 0.0 0.0"/>
         <mass value="0.001"/>
         <inertia ixx="1e-09" iyy="1e-09" izz="1e-09" ixy="0" ixz="0" iyz="0"/>
      </inertial>
   </link>
   <joint type="revolute" name="pinky_abd">
      <parent link="pinky_um_virt"/>
      <child link="pinky_abd_jointbody"/>
      <origin xyz="0.0 0.0 0.018" rpy="0.0 0.0 0.0"/>
      <axis xyz="1.0 0.0 0.0"/>
      <limit lower="-0.264" upper="0.264" effort="100" velocity="100"/>
   </joint>
   <joint type="fixed" name="pinky_abd_offset">
      <parent link="pinky_abd_jointbody"/>
      <child link="pinky_um"/>
      <origin xyz="-0.0 -0.0 -0.0" rpy="0.0 0.0 0.0"/>
   </joint>
   <link name="pinky_pp_virt">
      <inertial>
         <origin xyz="0.0 0.0 0.0" rpy="0.0 0.0 0.0"/>
         <mass value="0.001"/>
         <inertia ixx="4e-10" iyy="4e-10" izz="3e-10" ixy="0" ixz="0" iyz="0"/>
      </inertial>
   </link>
   <link name="root2pinky_pp_virt_jointbody">
      <inertial>
         <origin xyz="0.0 0.0 0.0" rpy="0.0 0.0 0.0"/>
         <mass value="0.001"/>
         <inertia ixx="1e-09" iyy="1e-09" izz="1e-09" ixy="0" ixz="0" iyz="0"/>
      </inertial>
   </link>
   <joint type="revolute" name="root2pinky_pp_virt">
      <parent link="pinky_um"/>
      <child link="root2pinky_pp_virt_jointbody"/>
      <origin xyz="0.00270000102 5.9952065978308155e-19 -0.00743303472" rpy="0.0 0.0 -1.5707963267948963"/>
      <axis xyz="1.0 0.0 0.0"/>
      <limit lower="-0.157" upper="0.829" effort="100" velocity="100"/>
   </joint>
   <joint type="fixed" name="root2pinky_pp_virt_offset">
      <parent link="root2pinky_pp_virt_jointbody"/>
      <child link="pinky_pp_virt"/>
      <origin xyz="-0.0 -0.00270000102 -0.0" rpy="0.0 0.0 0.0"/>
   </joint>
   <link name="pinky_pp">
      <inertial>
         <origin xyz="-2.109461568381571e-05 0.0009961632744908669 0.011153640747459392" rpy="-0.0005633733584207157 0.04664075136203927 1.572810016403888"/>
         <mass value="0.006411007113106174"/>
         <inertia ixx="8.839796359146425e-07" iyy="8.605669106686734e-07" izz="1.443335651753572e-07" ixy="0" ixz="0" iyz="0"/>
      </inertial>
      <visual name="pinky_pp">
         <origin xyz="-2.109461568381571e-05 0.0009961632744908669 0.011153640747459392" rpy="-0.0005633733584207157 0.04664075136203927 1.5728100164038883"/>
         <geometry>
            <mesh filename="package://viz/models/faive_hand_p4/urdf/converted_pinky_pp.stl"/>
         </geometry>
         <material name="white"/>
      </visual>
   </link>
   <link name="root2pinky_pp_jointbody">
      <inertial>
         <origin xyz="0.0 0.0 0.0" rpy="0.0 0.0 0.0"/>
         <mass value="0.001"/>
         <inertia ixx="1e-09" iyy="1e-09" izz="1e-09" ixy="0" ixz="0" iyz="0"/>
      </inertial>
   </link>
   <joint type="revolute" name="root2pinky_pp">
      <parent link="pinky_pp_virt"/>
      <child link="root2pinky_pp_jointbody"/>
      <origin xyz="0.0 0.00250000102 0.018" rpy="0.0 0.0 0.0"/>
      <axis xyz="1.0 0.0 0.0"/>
      <limit lower="-0.157" upper="0.829" effort="100" velocity="100"/>
   </joint>
   <joint type="fixed" name="root2pinky_pp_offset">
      <parent link="root2pinky_pp_jointbody"/>
      <child link="pinky_pp"/>
      <origin xyz="-0.0 -0.00250000102 -0.0" rpy="0.0 0.0 0.0"/>
   </joint>
   <link name="pinky_pp_sens">
      <inertial>
         <origin xyz="0.0 -0.004 0.015" rpy="0.0 0.0 0.0"/>
         <mass value="0.0"/>
         <inertia ixx="0.0" iyy="0.0" izz="0.0" ixy="0" ixz="0" iyz="0"/>
      </inertial>
   </link>
   <link name="pinky_pp2pinky_pp_sens_fixed_jointbody">
      <inertial>
         <origin xyz="0.0 0.0 0.0" rpy="0.0 0.0 0.0"/>
         <mass value="0.001"/>
         <inertia ixx="1e-09" iyy="1e-09" izz="1e-09" ixy="0" ixz="0" iyz="0"/>
      </inertial>
   </link>
   <joint type="fixed" name="pinky_pp2pinky_pp_sens_fixed">
      <parent link="pinky_pp"/>
      <child link="pinky_pp2pinky_pp_sens_fixed_jointbody"/>
      <origin xyz="0.0 -0.004 0.015" rpy="0.0 0.0 0.0"/>
   </joint>
   <joint type="fixed" name="pinky_pp2pinky_pp_sens_fixed_offset">
      <parent link="pinky_pp2pinky_pp_sens_fixed_jointbody"/>
      <child link="pinky_pp_sens"/>
      <origin xyz="-0.0 -0.0 -0.0" rpy="0.0 0.0 0.0"/>
   </joint>
   <link name="pinky_mp_virt">
      <inertial>
         <origin xyz="0.0 0.0 0.0" rpy="0.0 0.0 0.0"/>
         <mass value="0.001"/>
         <inertia ixx="4e-10" iyy="4e-10" izz="3e-10" ixy="0" ixz="0" iyz="0"/>
      </inertial>
   </link>
   <link name="pinky_pp2mp_virt_jointbody">
      <inertial>
         <origin xyz="0.0 0.0 0.0" rpy="0.0 0.0 0.0"/>
         <mass value="0.001"/>
         <inertia ixx="1e-09" iyy="1e-09" izz="1e-09" ixy="0" ixz="0" iyz="0"/>
      </inertial>
   </link>
   <joint type="revolute" name="pinky_pp2mp_virt">
      <parent link="pinky_pp"/>
      <child link="pinky_pp2mp_virt_jointbody"/>
      <origin xyz="0.0 0.00370000102 0.02701851213434598" rpy="0.0 0.0 0.0"/>
      <axis xyz="1.0 0.0 0.0"/>
      <limit lower="-0.131" upper="0.96" effort="100" velocity="100"/>
   </joint>
   <joint type="fixed" name="pinky_pp2mp_virt_offset">
      <parent link="pinky_pp2mp_virt_jointbody"/>
      <child link="pinky_mp_virt"/>
      <origin xyz="-0.0 -0.00370000102 -0.0" rpy="0.0 0.0 0.0"/>
   </joint>
   <link name="pinky_mp">
      <inertial>
         <origin xyz="-5.650322932879148e-05 0.002277558983797515 0.009212500242364335" rpy="0.004881995156064356 0.005874181783556143 1.5691948092412342"/>
         <mass value="0.0035266787657145257"/>
         <inertia ixx="2.5911984697112315e-07" iyy="2.327720229455275e-07" izz="6.529283129145394e-08" ixy="0" ixz="0" iyz="0"/>
      </inertial>
      <visual name="pinky_mp">
         <origin xyz="-5.650322932879148e-05 0.002277558983797515 0.009212500242364335" rpy="0.004881995156064356 0.005874181783555921 1.5691948092412342"/>
         <geometry>
            <mesh filename="package://viz/models/faive_hand_p4/urdf/converted_pinky_mp.stl"/>
         </geometry>
         <material name="white"/>
      </visual>
   </link>
   <link name="pinky_pp2mp_jointbody">
      <inertial>
         <origin xyz="0.0 0.0 0.0" rpy="0.0 0.0 0.0"/>
         <mass value="0.001"/>
         <inertia ixx="1e-09" iyy="1e-09" izz="1e-09" ixy="0" ixz="0" iyz="0"/>
      </inertial>
   </link>
   <joint type="revolute" name="pinky_pp2mp">
      <parent link="pinky_mp_virt"/>
      <child link="pinky_pp2mp_jointbody"/>
      <origin xyz="0.0 0.00350000102 0.011999999999999999" rpy="0.0 0.0 0.0"/>
      <axis xyz="1.0 0.0 0.0"/>
      <limit lower="-0.131" upper="0.96" effort="100" velocity="100"/>
   </joint>
   <joint type="fixed" name="pinky_pp2mp_offset">
      <parent link="pinky_pp2mp_jointbody"/>
      <child link="pinky_mp"/>
      <origin xyz="-0.0 -0.00350000102 -0.0" rpy="0.0 0.0 0.0"/>
   </joint>
   <link name="pinky_dp_virt">
      <inertial>
         <origin xyz="0.0 0.0 0.0" rpy="0.0 0.0 0.0"/>
         <mass value="0.001"/>
         <inertia ixx="4e-10" iyy="4e-10" izz="3e-10" ixy="0" ixz="0" iyz="0"/>
      </inertial>
   </link>
   <link name="pinky_mp2dp_virt_jointbody">
      <inertial>
         <origin xyz="0.0 0.0 0.0" rpy="0.0 0.0 0.0"/>
         <mass value="0.001"/>
         <inertia ixx="1e-09" iyy="1e-09" izz="1e-09" ixy="0" ixz="0" iyz="0"/>
      </inertial>
   </link>
   <joint type="revolute" name="pinky_mp2dp_virt">
      <parent link="pinky_mp"/>
      <child link="pinky_mp2dp_virt_jointbody"/>
      <origin xyz="0.0 0.00370000102 0.0195" rpy="0.0 0.0 0.0"/>
      <axis xyz="1.0 0.0 0.0"/>
      <limit lower="-0.093" upper="0.682" effort="100" velocity="100"/>
   </joint>
   <joint type="fixed" name="pinky_mp2dp_virt_offset">
      <parent link="pinky_mp2dp_virt_jointbody"/>
      <child link="pinky_dp_virt"/>
      <origin xyz="-0.0 -0.00370000102 -0.0" rpy="0.0 0.0 0.0"/>
   </joint>
   <link name="pinky_dp">
      <inertial>
         <origin xyz="-7.350958926698181e-06 0.0032238257911780446 0.007640724715587521" rpy="0.0038160787218809444 0.05349515626750856 1.570568003522288"/>
         <mass value="0.002076623300267396"/>
         <inertia ixx="1.0632503972632225e-07" iyy="9.094510216857428e-08" izz="2.8708364524729455e-08" ixy="0" ixz="0" iyz="0"/>
      </inertial>
      <visual name="pinky_dp">
         <origin xyz="-7.350958926698181e-06 0.0032238257911780446 0.007640724715587521" rpy="0.0038160787218808334 0.05349515626750856 1.570568003522288"/>
         <geometry>
            <mesh filename="package://viz/models/faive_hand_p4/urdf/converted_pinky_dp.stl"/>
         </geometry>
         <material name="white"/>
      </visual>
   </link>
   <link name="pinky_mp2dp_jointbody">
      <inertial>
         <origin xyz="0.0 0.0 0.0" rpy="0.0 0.0 0.0"/>
         <mass value="0.001"/>
         <inertia ixx="1e-09" iyy="1e-09" izz="1e-09" ixy="0" ixz="0" iyz="0"/>
      </inertial>
   </link>
   <joint type="revolute" name="pinky_mp2dp">
      <parent link="pinky_dp_virt"/>
      <child link="pinky_mp2dp_jointbody"/>
      <origin xyz="0.0 0.00350000102 0.008999999999999998" rpy="0.0 0.0 0.0"/>
      <axis xyz="1.0 0.0 0.0"/>
      <limit lower="-0.093" upper="0.682" effort="100" velocity="100"/>
   </joint>
   <joint type="fixed" name="pinky_mp2dp_offset">
      <parent link="pinky_mp2dp_jointbody"/>
      <child link="pinky_dp"/>
      <origin xyz="-0.0 -0.00350000102 -0.0" rpy="0.0 0.0 0.0"/>
   </joint>
   <link name="pinky_fingertip">
      <inertial>
         <origin xyz="0.0 0.0 0.01" rpy="0.0 0.0 0.0"/>
         <mass value="0.0"/>
         <inertia ixx="0.0" iyy="0.0" izz="0.0" ixy="0" ixz="0" iyz="0"/>
      </inertial>
   </link>
   <link name="pinky_dp2pinky_fingertip_fixed_jointbody">
      <inertial>
         <origin xyz="0.0 0.0 0.0" rpy="0.0 0.0 0.0"/>
         <mass value="0.001"/>
         <inertia ixx="1e-09" iyy="1e-09" izz="1e-09" ixy="0" ixz="0" iyz="0"/>
      </inertial>
   </link>
   <joint type="fixed" name="pinky_dp2pinky_fingertip_fixed">
      <parent link="pinky_dp"/>
      <child link="pinky_dp2pinky_fingertip_fixed_jointbody"/>
      <origin xyz="0.0 0.0 0.01" rpy="0.0 0.0 0.0"/>
   </joint>
   <joint type="fixed" name="pinky_dp2pinky_fingertip_fixed_offset">
      <parent link="pinky_dp2pinky_fingertip_fixed_jointbody"/>
      <child link="pinky_fingertip"/>
      <origin xyz="-0.0 -0.0 -0.0" rpy="0.0 0.0 0.0"/>
   </joint>
   <material name="white">
      <color rgba="1 1 1 1"/>
   </material>
</robot>
